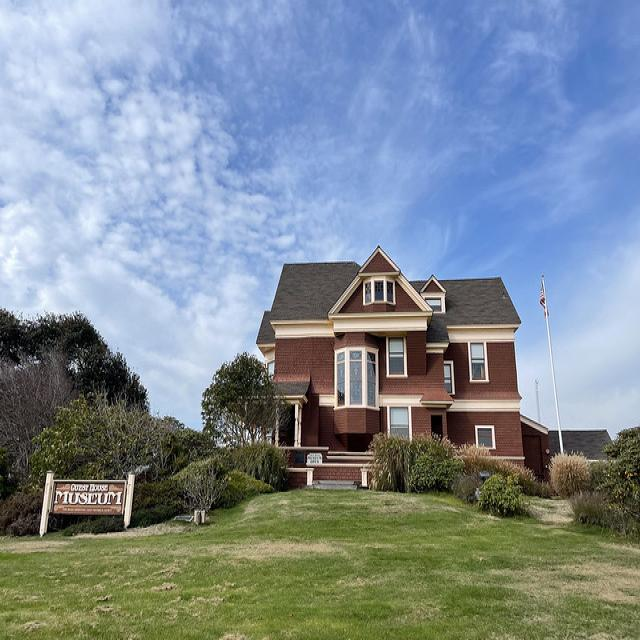Normal_building: (254, 248, 533, 500)
